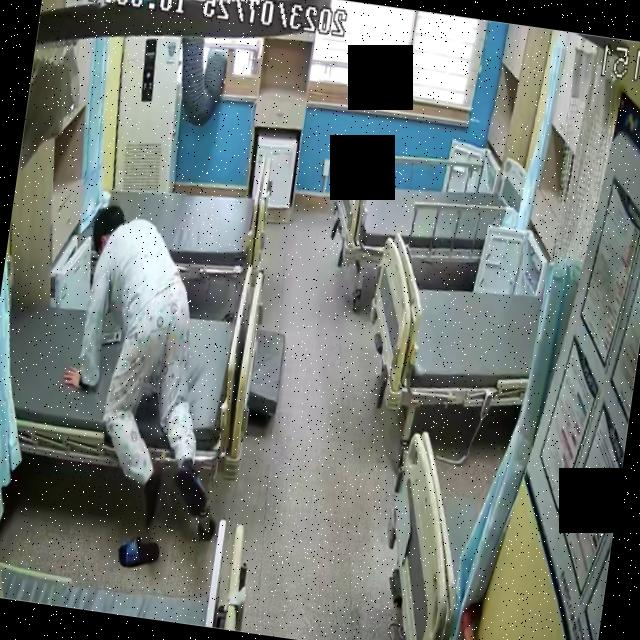bed: (0, 232, 270, 488), (71, 120, 276, 301), (358, 235, 544, 422), (328, 144, 511, 281)
danger: (45, 193, 258, 512)
patient: (45, 190, 249, 510)
